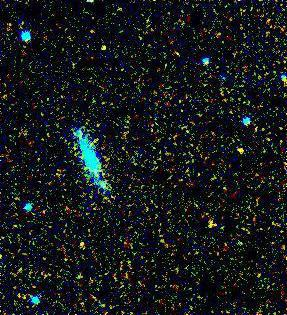star: (225, 135, 255, 165)
